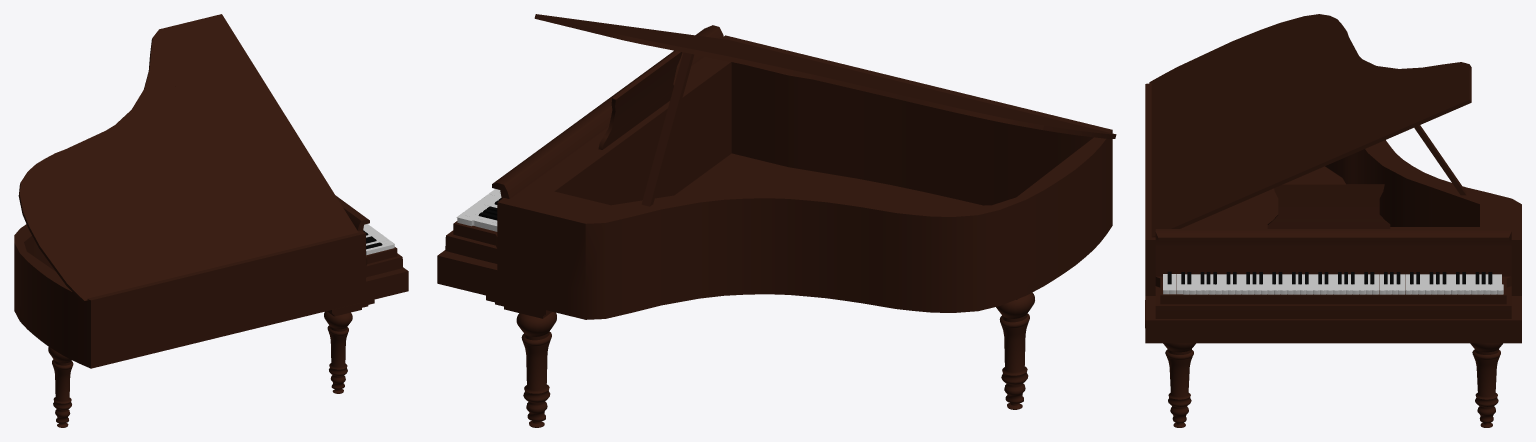
Rendered from GrandPiano.fbx.
3 renders of one model, left to right at view 1: azimuth 30°, elevation 25°; view 2: azimuth 150°, elevation 25°; view 3: azimuth 270°, elevation 25°, orthographic. The views are drawn at different scales.
Visible parts, largest first — view 1: polySurface20; view 2: polySurface20; view 3: polySurface20.
Boxes of the visible parts, box(x1,y1,x2,y2) form: polySurface20: box(14, 14, 408, 427); polySurface20: box(437, 14, 1116, 427); polySurface20: box(1145, 14, 1521, 427).
Size of the model in its own units: 295 by 242 by 250.
